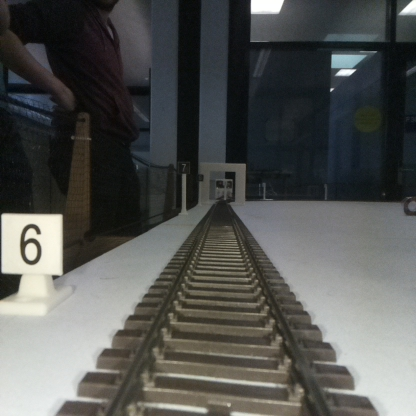black-info-7: (179, 160, 190, 213)
white-stop-6: (0, 215, 62, 313)
